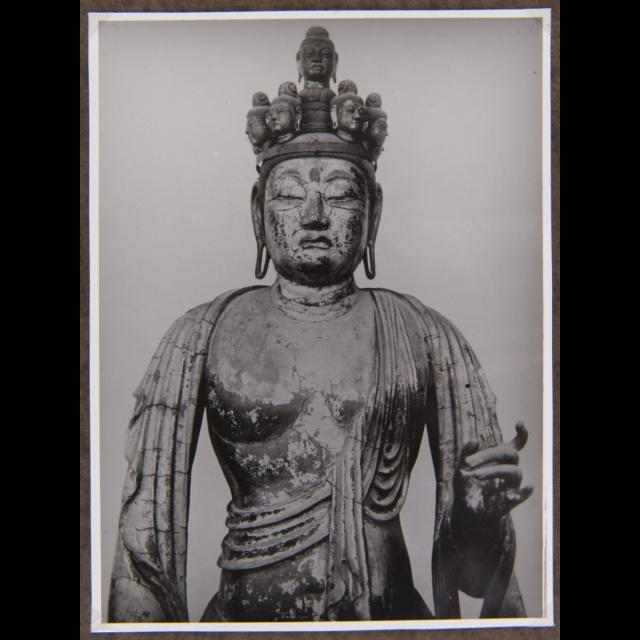buddha-standing: (112, 23, 535, 621)
